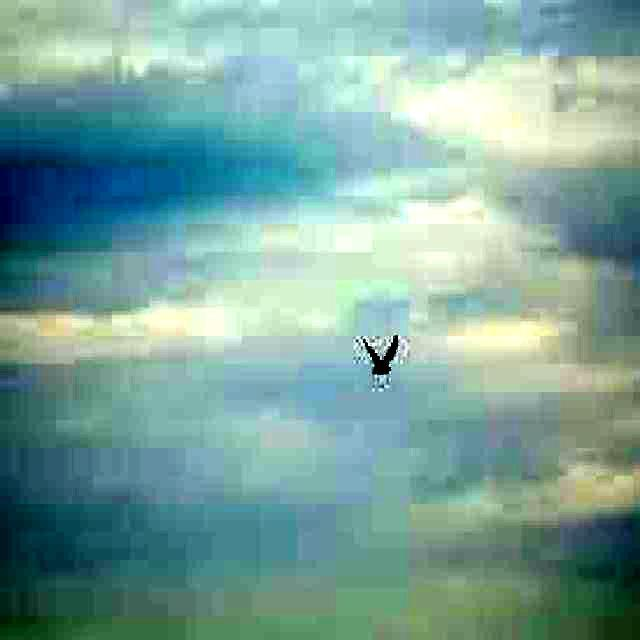bird: (358, 328, 400, 382)
